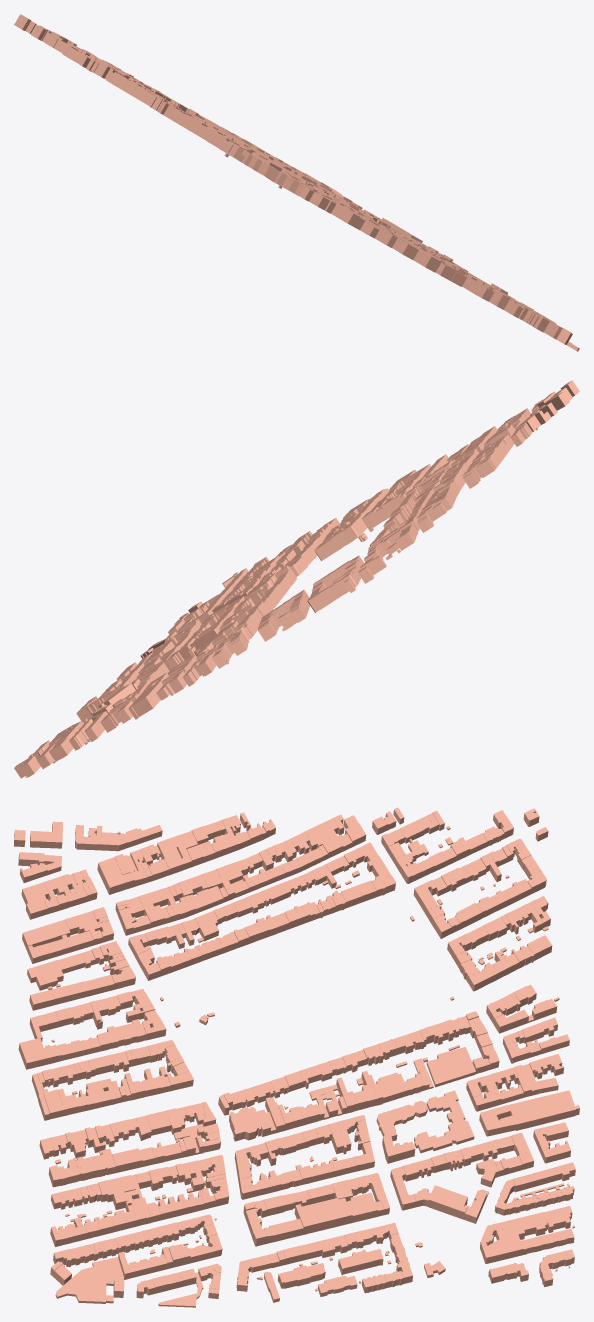
The picture shows the model from 3 angles, top to bottom: view 1: azimuth 30°, elevation 25°; view 2: azimuth 150°, elevation 25°; view 3: azimuth 270°, elevation 25°; orthographic projection. The views are drawn at different scales.
Size of the model in its own units: 530 by 395 by 647.
